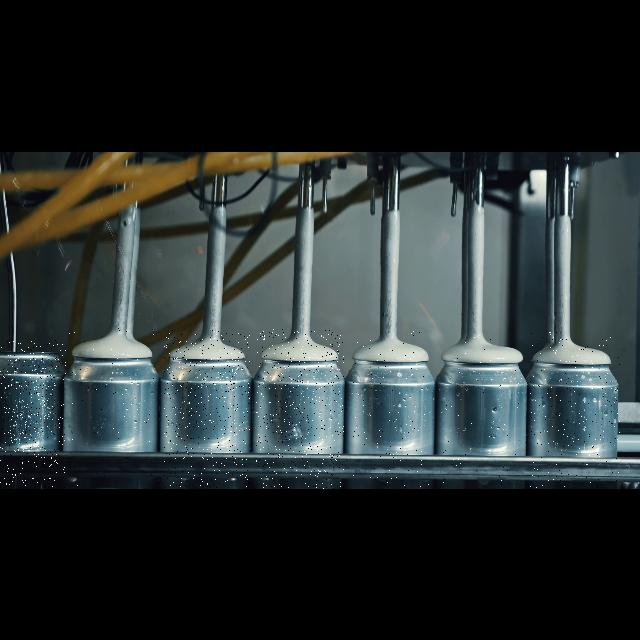empty: (0, 340, 66, 488)
full: (66, 328, 160, 488), (256, 329, 344, 489), (530, 332, 620, 488), (164, 330, 250, 488), (442, 334, 522, 488), (353, 330, 429, 488)
